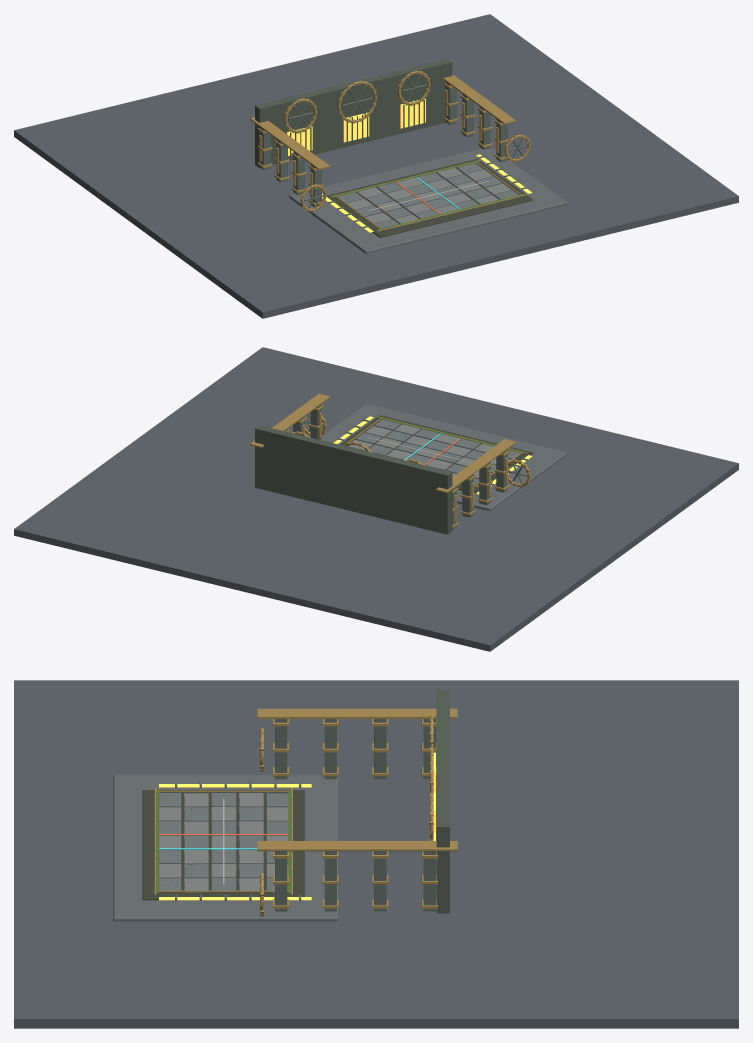
Rendered from brass_foundry.glb.
3 views of the same model, one above another, from view 1: azimuth 30°, elevation 25°; view 2: azimuth 150°, elevation 25°; view 3: azimuth 270°, elevation 25° (orthographic). The views are drawn at different scales.
Parts seen in each view (by area): view 1: BattleWorldGround, Architecture, BattleMeadow, ArenaTiles, ArenaBase, Energy, Props, ArenaBorders; view 2: BattleWorldGround, Architecture, ArenaTiles, BattleMeadow, ArenaBase, Props; view 3: BattleWorldGround, Architecture, BattleMeadow, ArenaTiles, ArenaBase, ArenaBorders, Energy, Props.
Part boxes in pixels (left/top/right/bottom): BattleWorldGround: left=14, top=14, right=738, bottom=318; Architecture: left=250, top=58, right=515, bottom=207; BattleMeadow: left=289, top=147, right=567, bottom=253; ArenaTiles: left=337, top=163, right=520, bottom=230; ArenaBase: left=326, top=159, right=532, bottom=237; Energy: left=287, top=98, right=532, bottom=232; Props: left=259, top=89, right=530, bottom=228; ArenaBorders: left=330, top=160, right=527, bottom=231; BattleWorldGround: left=14, top=347, right=738, bottom=651; Architecture: left=250, top=393, right=515, bottom=534; ArenaTiles: left=347, top=419, right=519, bottom=487; BattleMeadow: left=322, top=403, right=567, bottom=510; ArenaBase: left=340, top=415, right=532, bottom=493; Props: left=302, top=412, right=530, bottom=521; BattleWorldGround: left=14, top=680, right=738, bottom=1028; Architecture: left=257, top=690, right=457, bottom=913; BattleMeadow: left=113, top=775, right=338, bottom=921; ArenaTiles: left=159, top=793, right=291, bottom=892; ArenaBase: left=142, top=790, right=304, bottom=900; ArenaBorders: left=154, top=787, right=292, bottom=894; Energy: left=159, top=752, right=435, bottom=900; Props: left=175, top=728, right=301, bottom=916.
Size of the model in its own units: 42 by 6.25 by 38.
